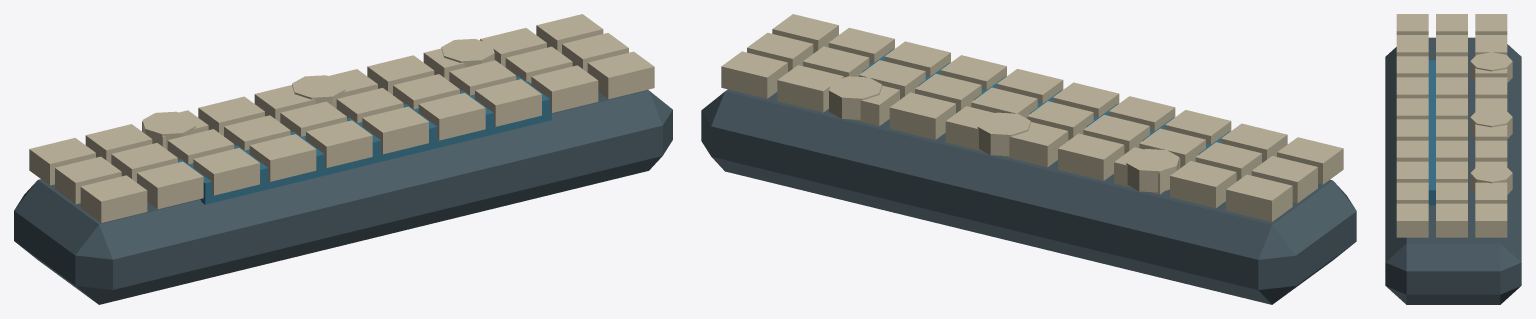
Rendered from set_keyboard.glb.
The picture shows the model from 3 angles, left to right: view 1: azimuth 30°, elevation 25°; view 2: azimuth 150°, elevation 25°; view 3: azimuth 270°, elevation 25°; orthographic projection. The views are drawn at different scales.
Parts seen in each view (by area): view 1: set_keyboard; view 2: set_keyboard; view 3: set_keyboard.
Boxes of the visible parts, box(x1,y1,x2,y2) form: set_keyboard: box(14, 14, 672, 304); set_keyboard: box(701, 14, 1356, 304); set_keyboard: box(1385, 14, 1521, 304).
Size of the model in its own units: 0.35 by 0.062 by 0.09.
